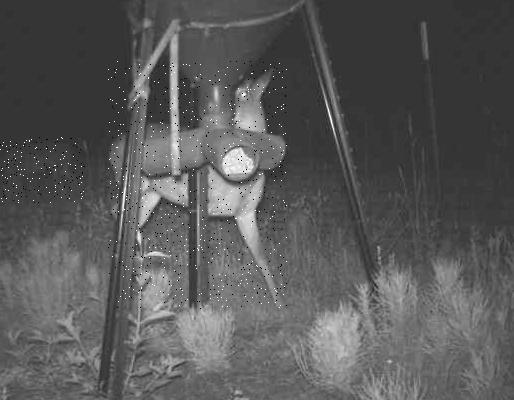Deer: (108, 61, 287, 309), (0, 137, 85, 203)
